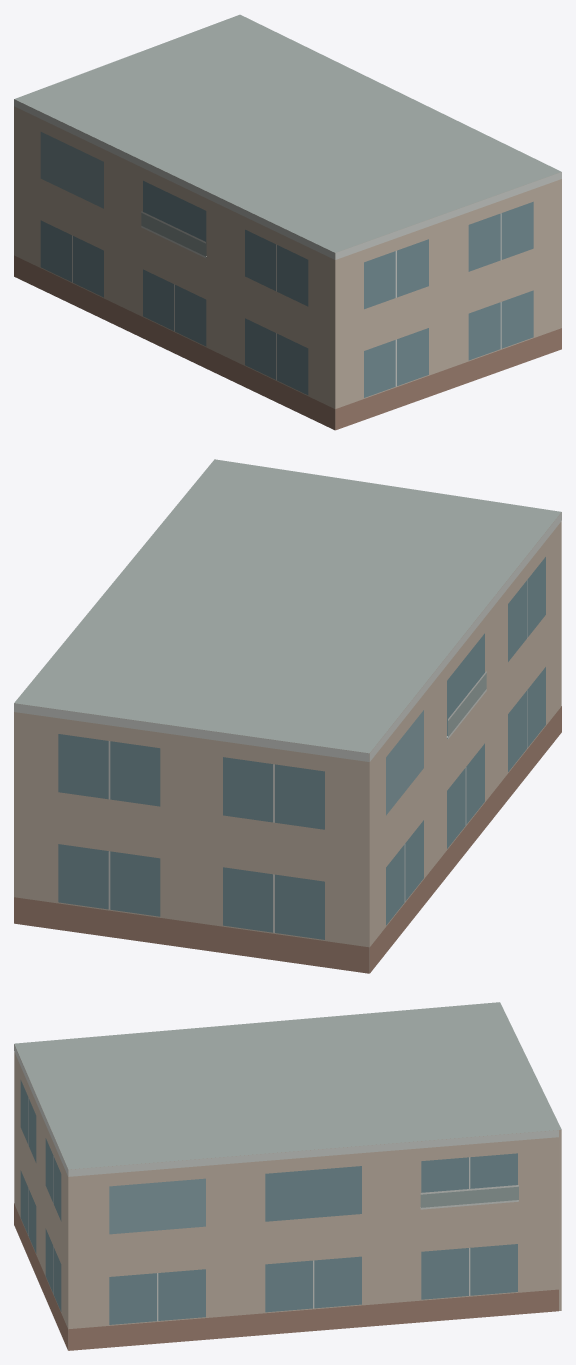
File: survey-upis-32708134.glb
The picture shows the model from 3 angles, top to bottom: view 1: azimuth 30°, elevation 25°; view 2: azimuth 150°, elevation 25°; view 3: azimuth 270°, elevation 25°; orthographic projection. The views are drawn at different scales.
Visible parts, largest first — view 1: survey-upis-32708134.tmp; view 2: survey-upis-32708134.tmp; view 3: survey-upis-32708134.tmp.
Part boxes in pixels (x1,y1,x2,y2): survey-upis-32708134.tmp: [14, 14, 561, 430]; survey-upis-32708134.tmp: [14, 459, 561, 973]; survey-upis-32708134.tmp: [14, 1002, 561, 1350].
Bounding box in the file's own units: 12.11 × 6.1 × 16.72.
